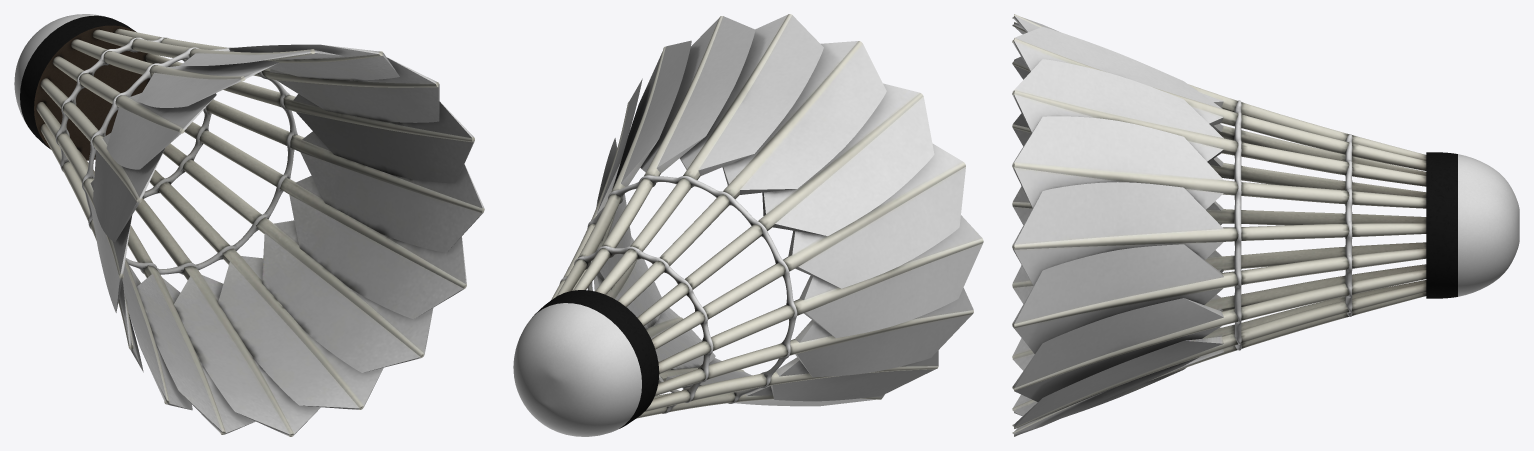
Rendered from 10526_Shuttlecock_v1_L3.obj.
3 views of the same model, side by side, from view 1: azimuth 30°, elevation 25°; view 2: azimuth 150°, elevation 25°; view 3: azimuth 270°, elevation 25° (orthographic).
Parts seen in each view (by area): view 1: 10526_Shuttlecock_v1_SG; view 2: 10526_Shuttlecock_v1_SG; view 3: 10526_Shuttlecock_v1_SG.
Part boxes in pixels (x1,y1,x2,y2): 10526_Shuttlecock_v1_SG: (14,14,484,436); 10526_Shuttlecock_v1_SG: (513,14,983,436); 10526_Shuttlecock_v1_SG: (1012,14,1519,436).
Bounding box in the file's own units: 9.32 × 9.32 × 11.14.
Materials: 1 (1 with a texture image).
